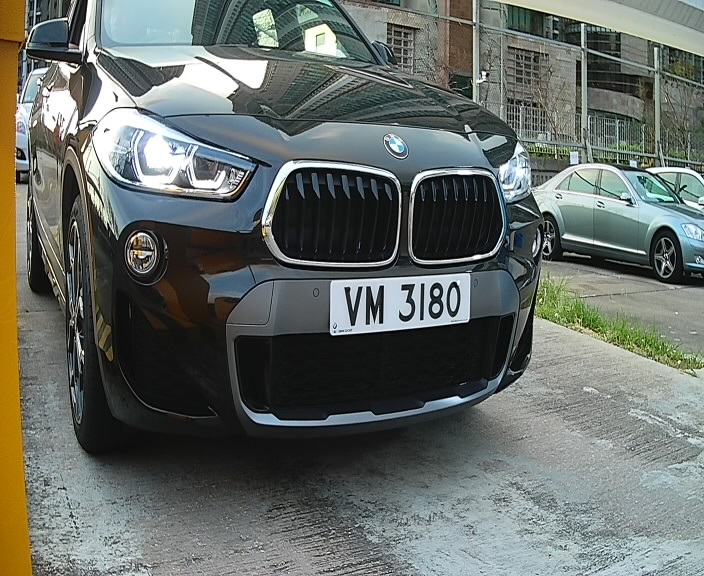Car: (21, 2, 583, 484)
License Plate: (319, 265, 476, 340)
